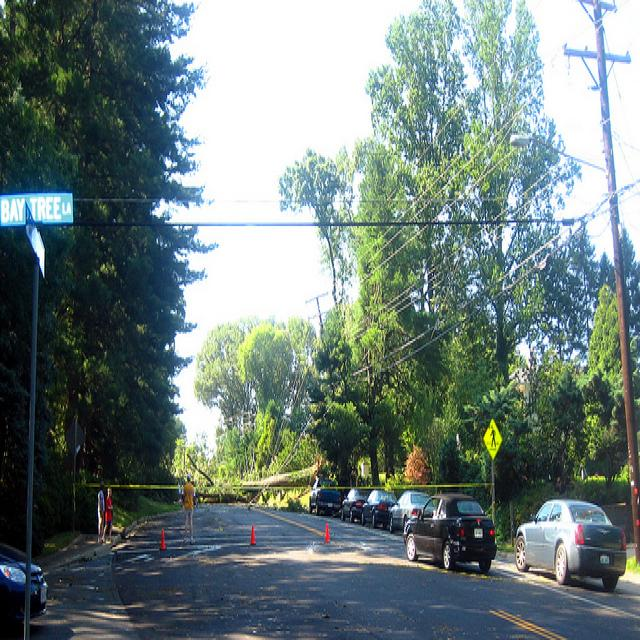Vehicle: (515, 500, 624, 578), (402, 496, 496, 572), (0, 549, 46, 621), (389, 491, 432, 532), (361, 489, 397, 530), (309, 477, 341, 515), (341, 489, 370, 525)
